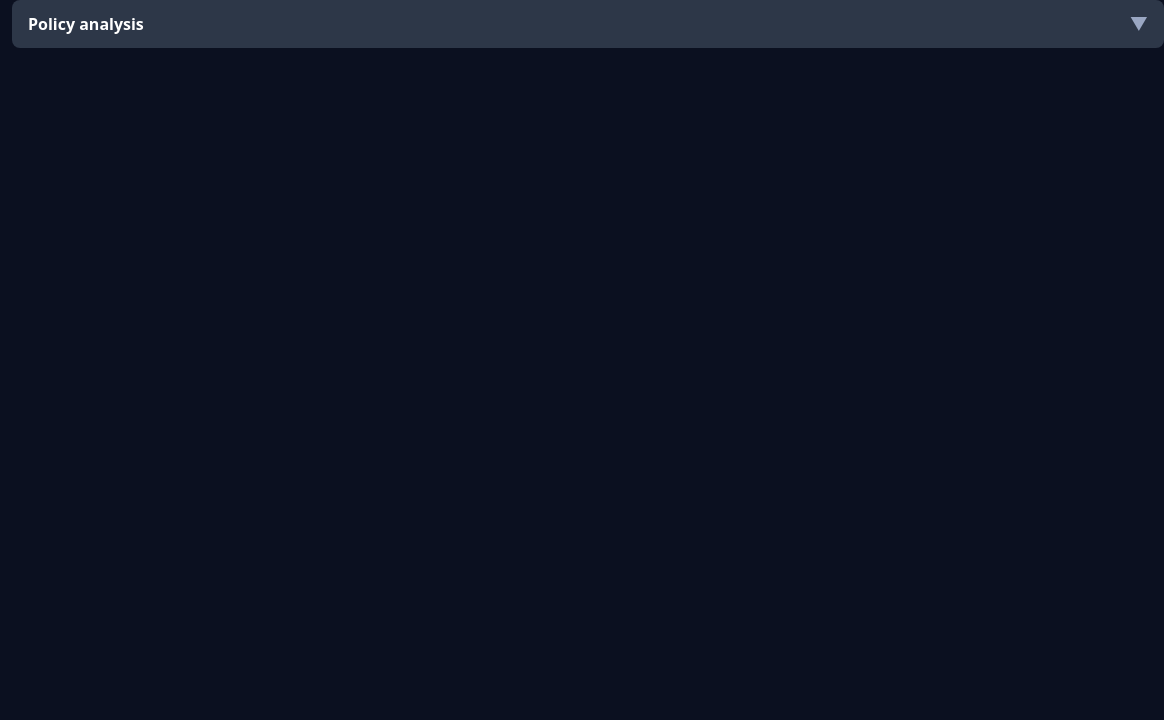
Test: PolicyAnalysis guardrail notice › says grant checks are off for a type detected from the wrapper, and for a type the user picks
Click the heading "Policy analysis" at x=86, y=24, box [28,13,144,35]
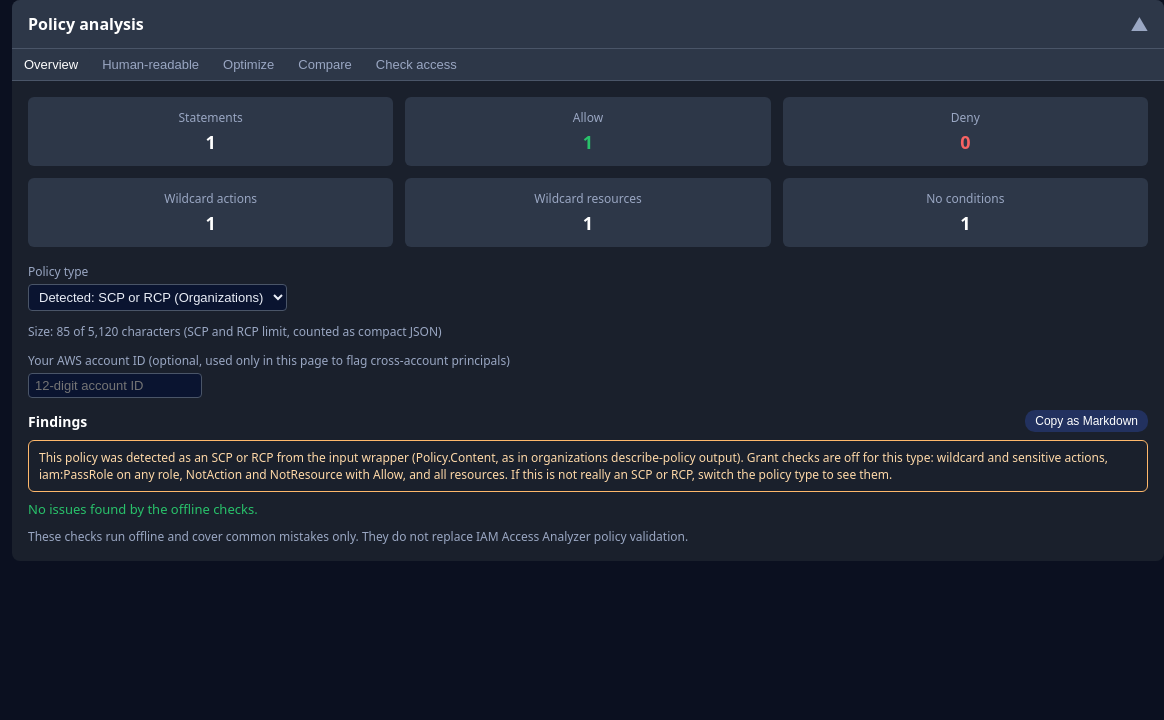
Now the text with test id "guardrail-notice" shows "detected as an SCP or RCP from the input wrapper (Policy.Content", box [39,449,1108,483]
Now the text with test id "guardrail-notice" shows "Grant checks are off for this type", box [39,449,1108,483]
Select "Permissions boundary" in the dropdown showing "Detected: SCP or RCP (Organizations)" at x=158, y=298, box [28,284,287,311]
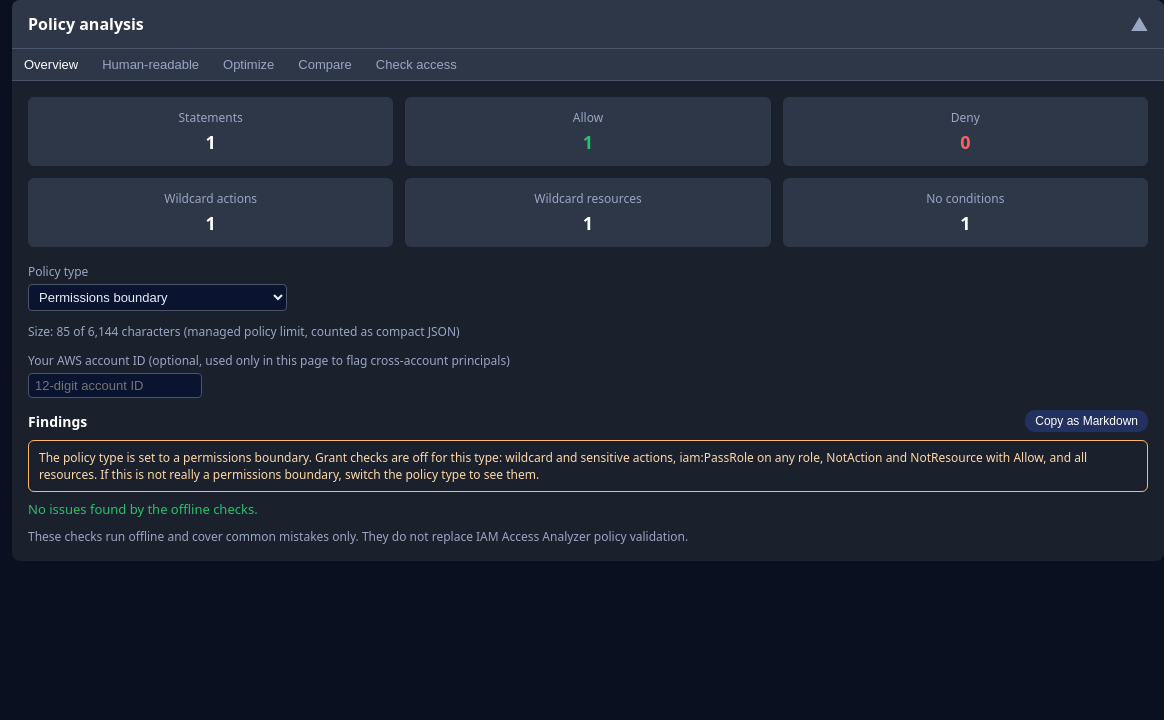
Now the text with test id "guardrail-notice" shows "The policy type is set to a permissions boundary.", box [39,449,1087,483]
Now the text with test id "guardrail-notice" shows "If this is not really a permissions boundary, switch the policy type", box [39,449,1087,483]
Select "Identity-based policy" in the dropdown showing "Detected: SCP or RCP (Organizations)" at x=158, y=298, box [28,284,287,311]
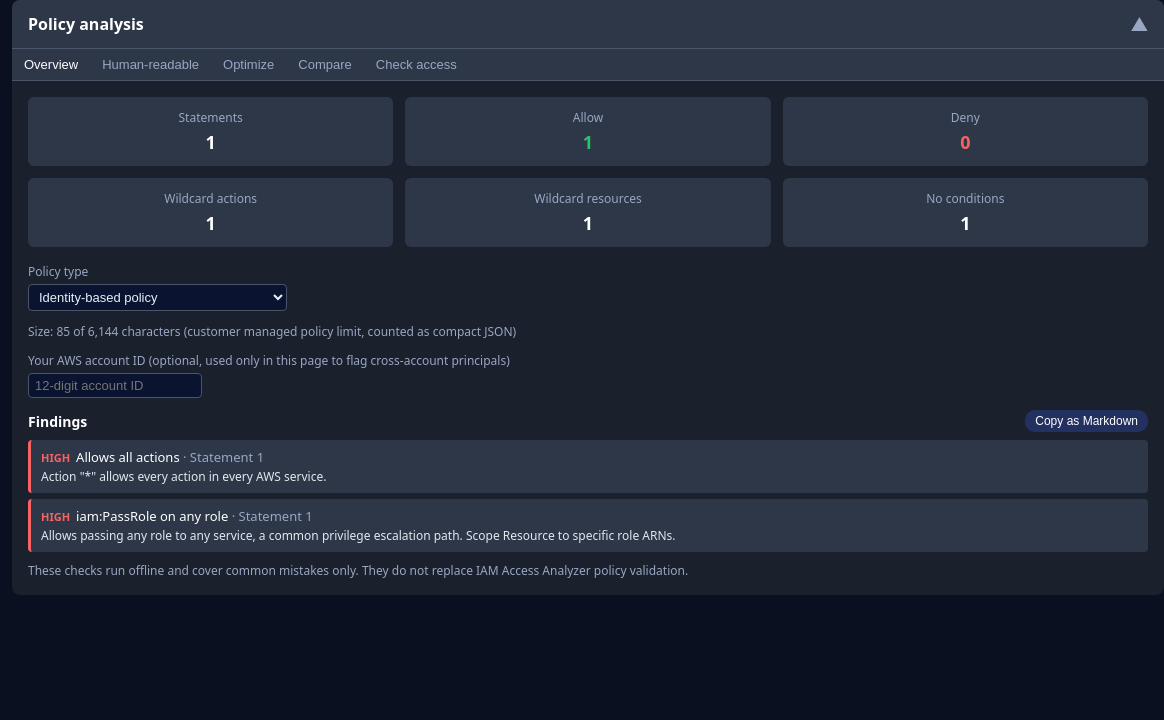
Now the text with test id "guardrail-notice" is gone
Now the list with test id "findings" shows "Allows all actions", box [76,448,180,466]
